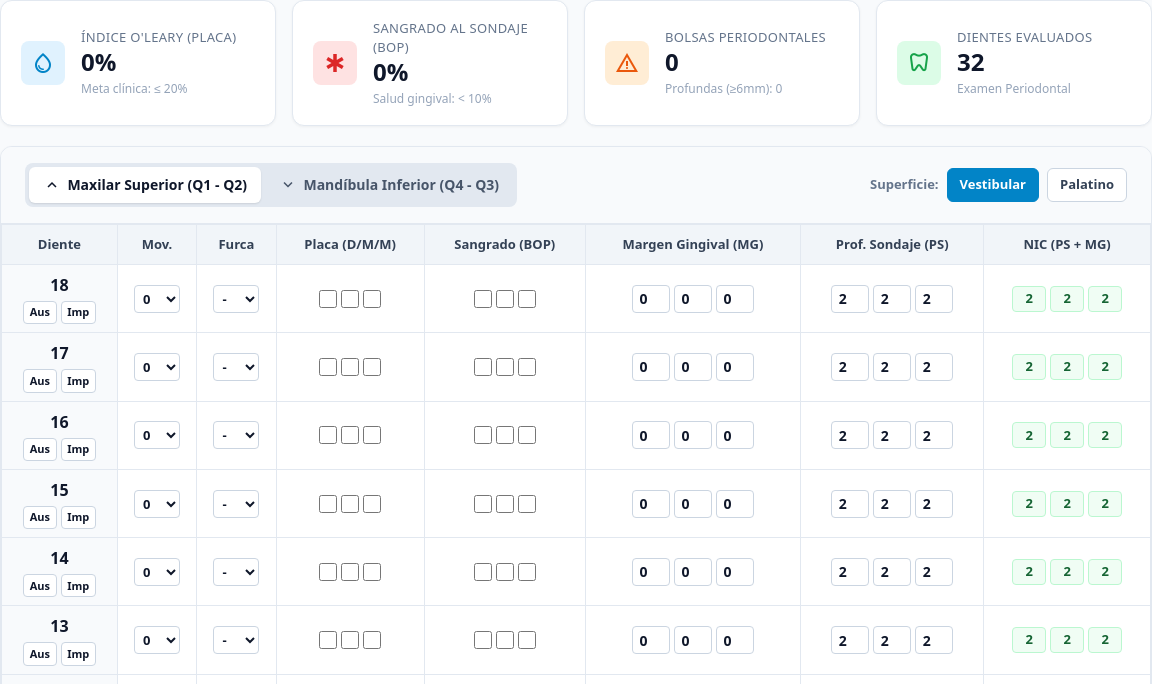
Scenario: PeriodontogramTable Component › debe recalcular automáticamente el NIC = PS + MG cuando se modifican los valores
Replace the text in the number field named "PS Distal 16" with "5" at coordinates (850, 435), box [831,421,869,449]
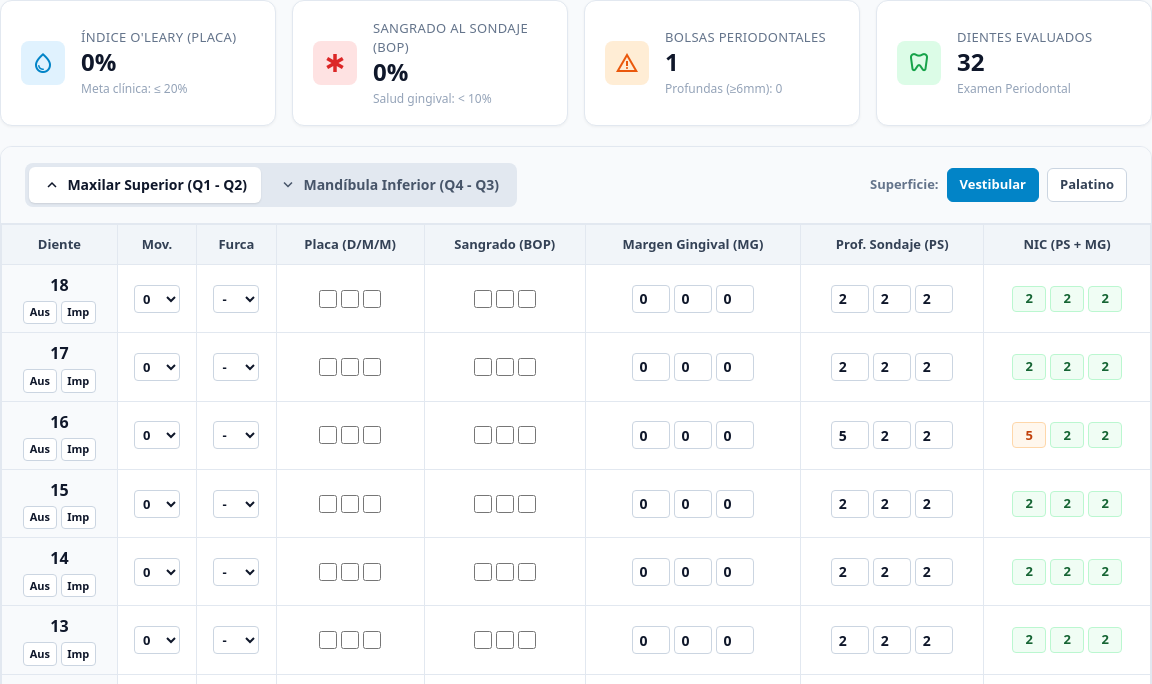
Replace the text in the number field named "MG Distal 16" with "2" at coordinates (651, 435), box [632,421,670,449]
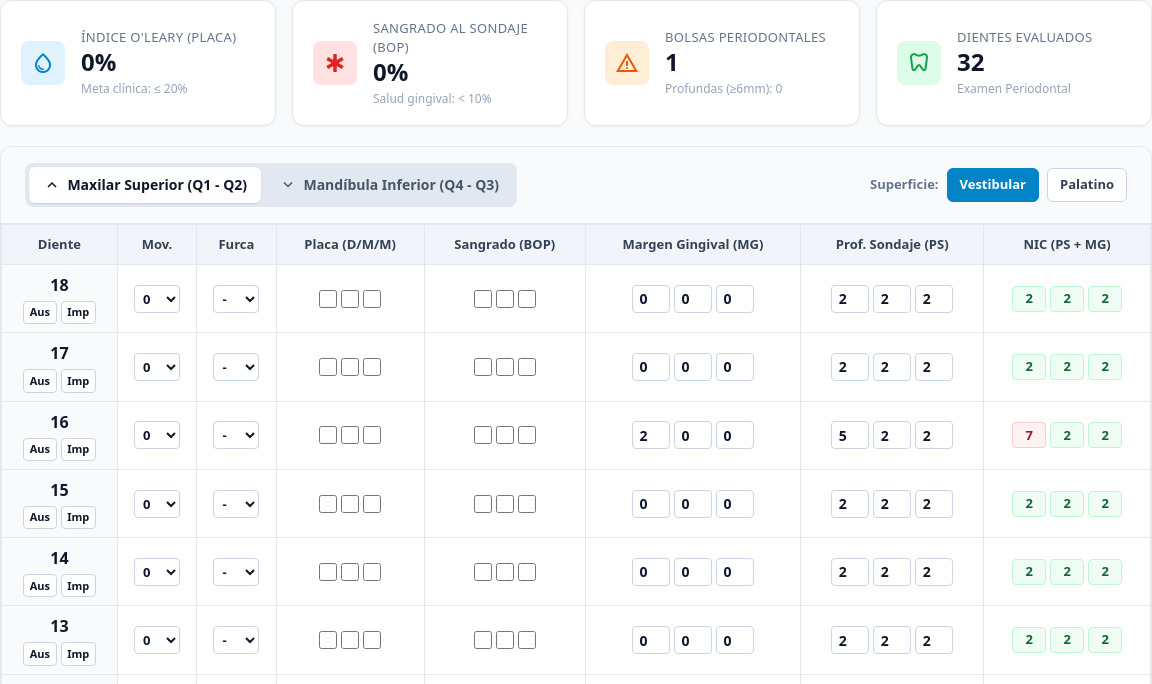
Result: the text titled "NIC Distal: 7 mm" is shown at [1012,422,1046,448]
